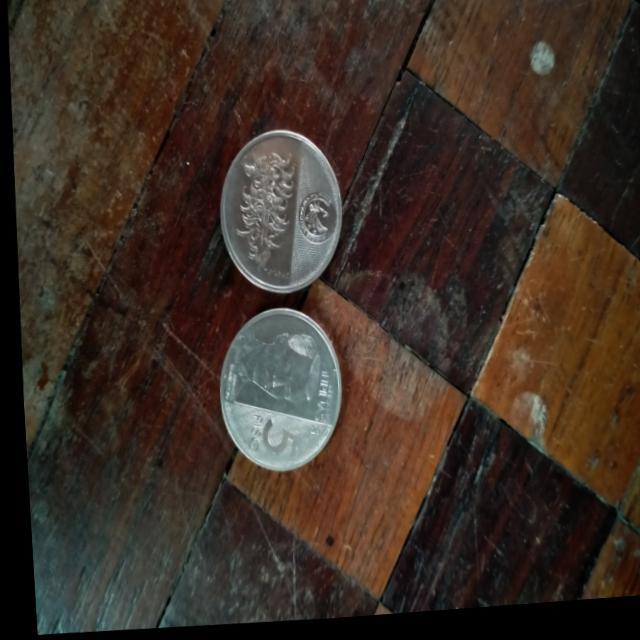5_New_Back: (220, 140, 304, 284)
5_New_Front: (236, 408, 300, 470)
